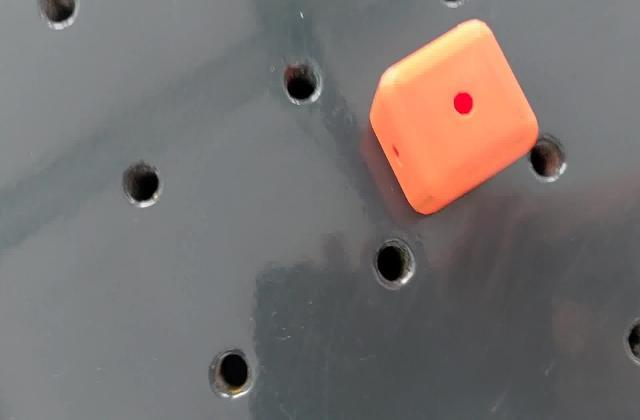cube: (367, 15, 542, 221)
